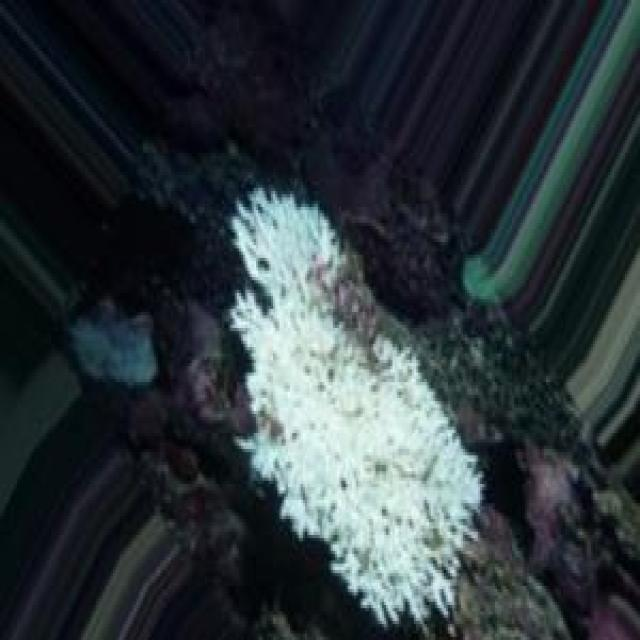Bleached: (232, 189, 481, 622)
